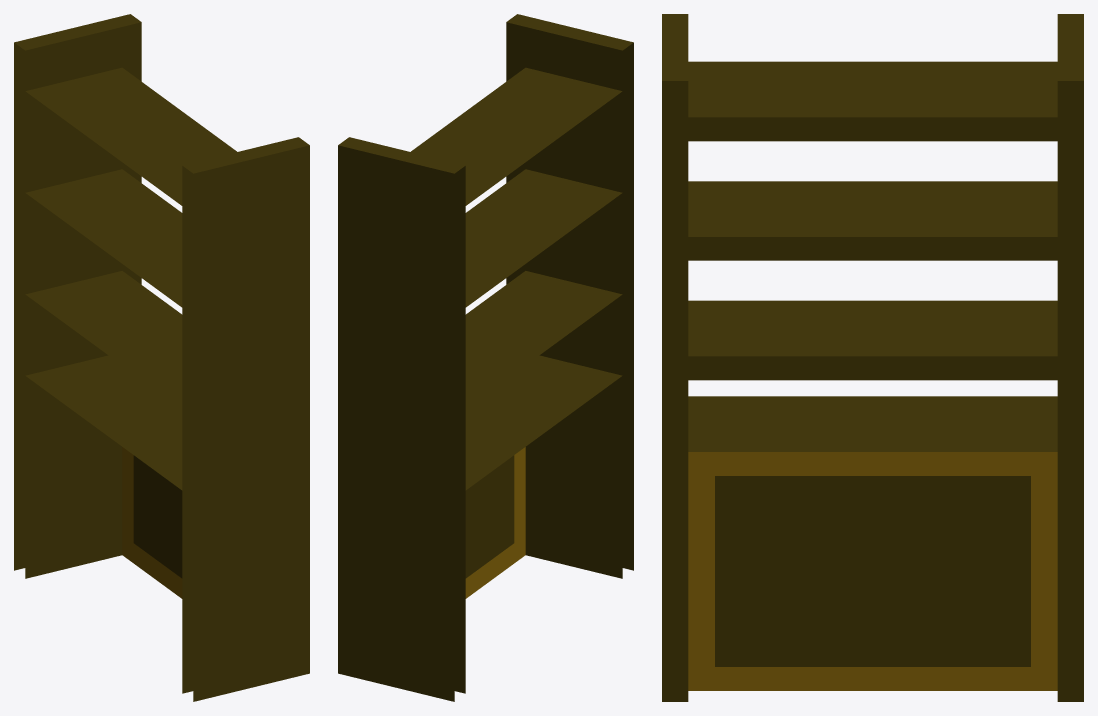
File: obj_shelves_4_0.obj
3 views of the same model, side by side, from view 1: azimuth 30°, elevation 25°; view 2: azimuth 150°, elevation 25°; view 3: azimuth 270°, elevation 25° (orthographic). The views are drawn at different scales.
Size of the model in its own units: 0.375 by 1.62 by 1.
